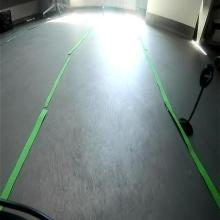right: (198, 63, 215, 87)
